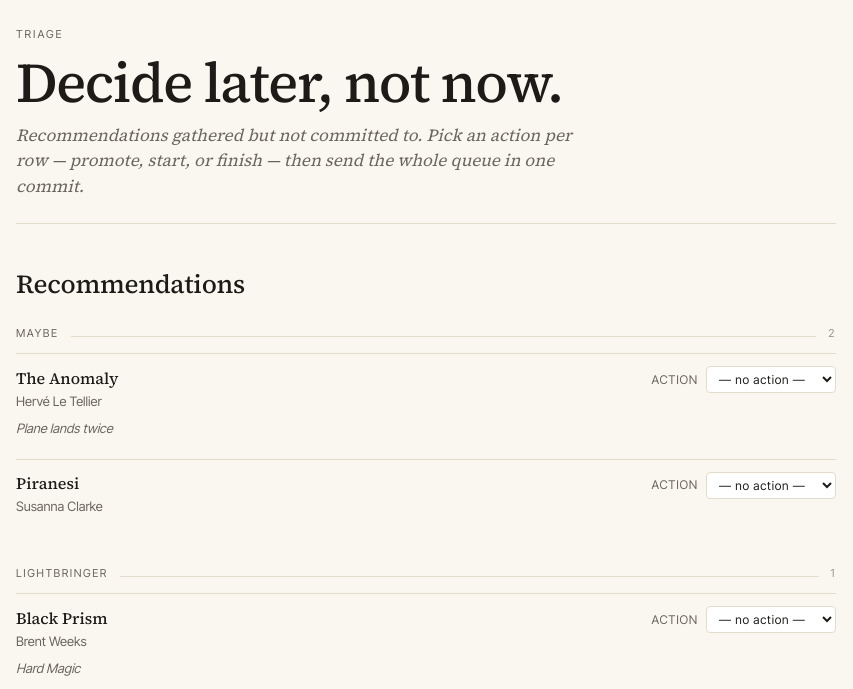
/triage — authed owner › Discard all clears every row's action and hides the queue bar
Step 1. Select "Promote to TBR" in the dropdown labelled "Action" in the row of "The Anomaly" → (771, 380), box [706,366,836,393]
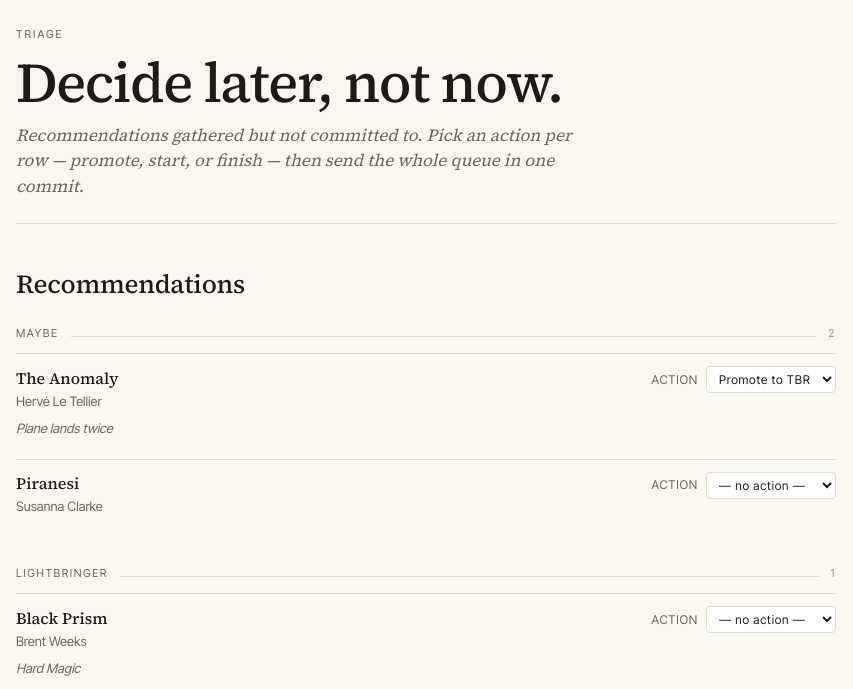
Step 2. Select "Start reading" in the dropdown labelled "Action" in the row of "Piranesi" → (771, 485), box [706,472,836,498]
(page scrolled)
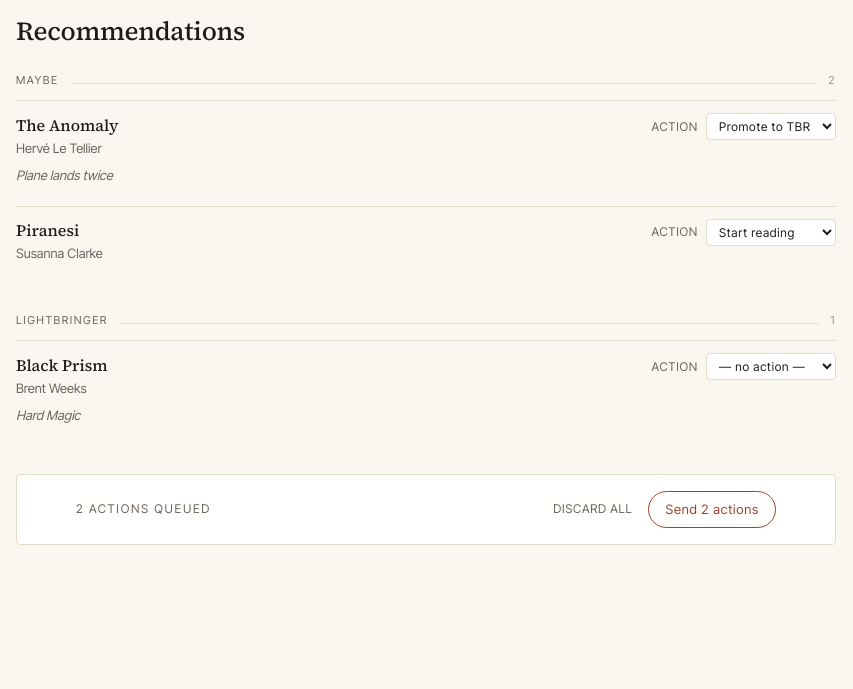
Step 3. Click the button "Discard all" → (593, 509), box [553,500,632,518]
(page scrolled)
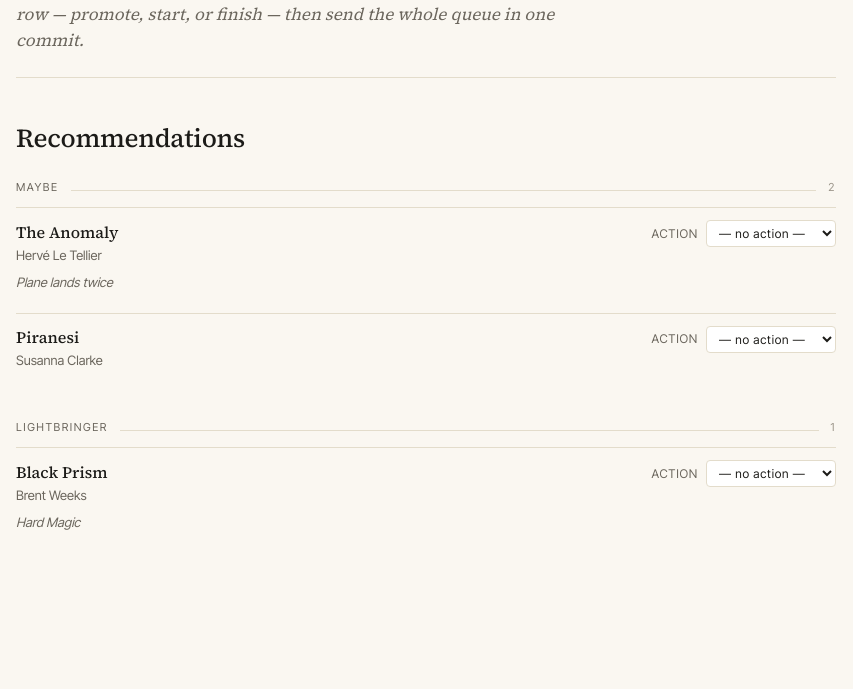
Expected: the dropdown labelled "Action" in the row of "Black Prism" shows "— no action —", [706,460,836,487]
Expected: the element with test id "triage-bulk-bar" is gone
